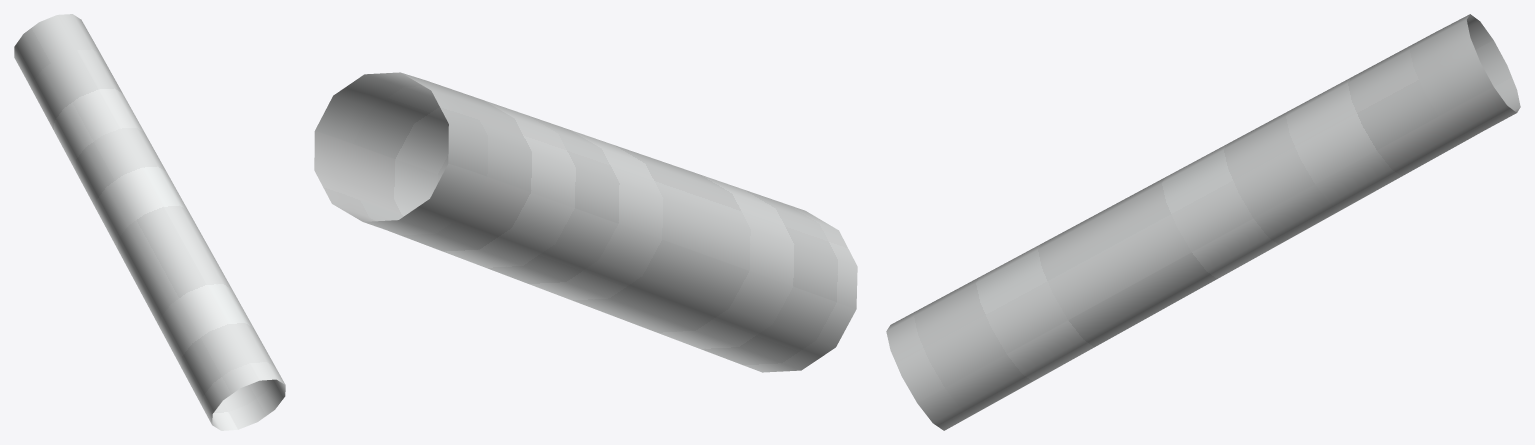
Rendered from luminairearm_caltrans8ftstraight_c2.obj.
3 renders of one model, left to right at view 1: azimuth 30°, elevation 25°; view 2: azimuth 150°, elevation 25°; view 3: azimuth 270°, elevation 25°, orthographic. The views are drawn at different scales.
Visible parts, largest first — view 1: luminairearm_caltrans8ftstraight_c2; view 2: luminairearm_caltrans8ftstraight_c2; view 3: luminairearm_caltrans8ftstraight_c2.
Boxes of the visible parts, x1,y1,x2,y2 form: luminairearm_caltrans8ftstraight_c2: [14, 14, 285, 430]; luminairearm_caltrans8ftstraight_c2: [314, 72, 857, 372]; luminairearm_caltrans8ftstraight_c2: [886, 14, 1520, 430].
Size of the model in its own units: 0.2083 by 0.7747 by 1.1.
